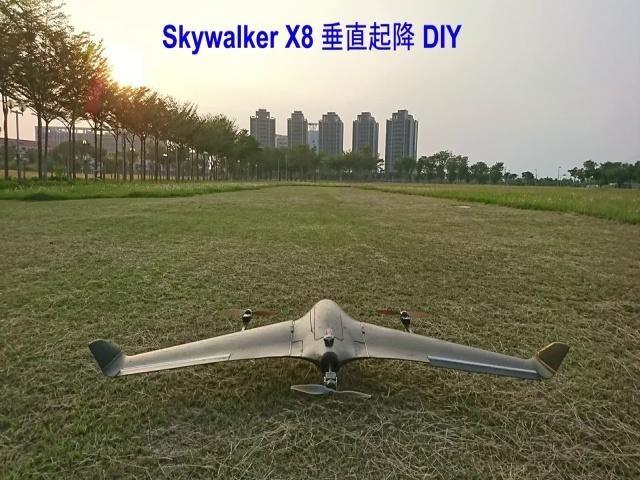Airplane: (88, 298, 570, 399)
